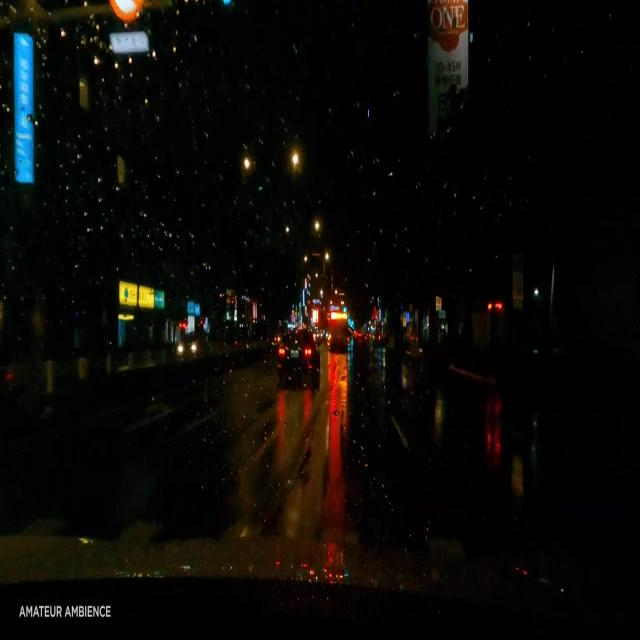Car: (276, 329, 317, 388)
